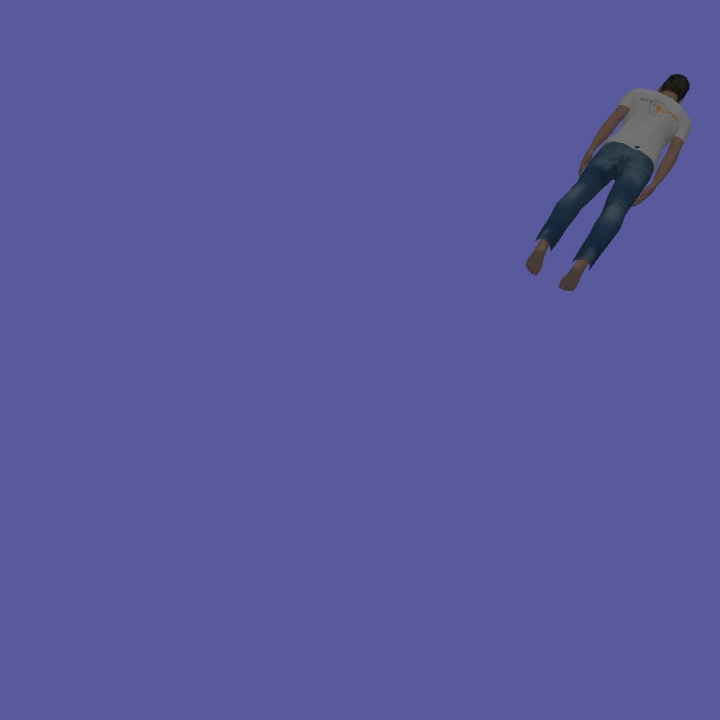victim: (526, 64, 697, 298)
